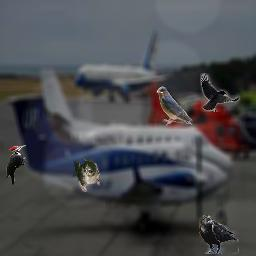Crow: (199, 215, 239, 254), (200, 73, 240, 112)
Swallow: (156, 86, 193, 126), (72, 158, 100, 192)
Woodpecker: (6, 145, 27, 185)
